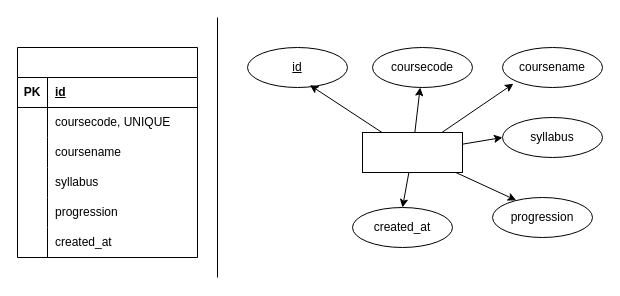
Image size: 620x296. Some labels were removed from this diagram. Here are the shapes that lost their labels. From the top down, the box of each, then its label:
(16, 46, 198, 258): courses
(362, 132, 462, 172): course
